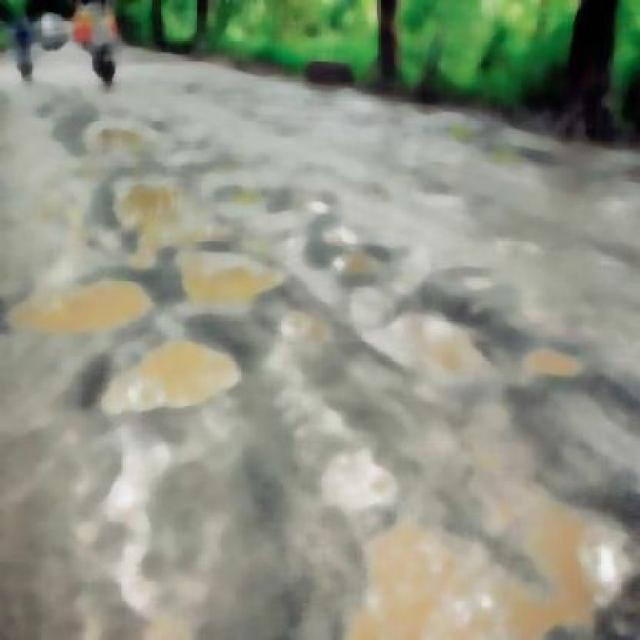Pothole: (340, 498, 638, 638), (116, 115, 184, 256), (9, 272, 153, 338), (176, 223, 272, 320), (107, 343, 238, 408)
